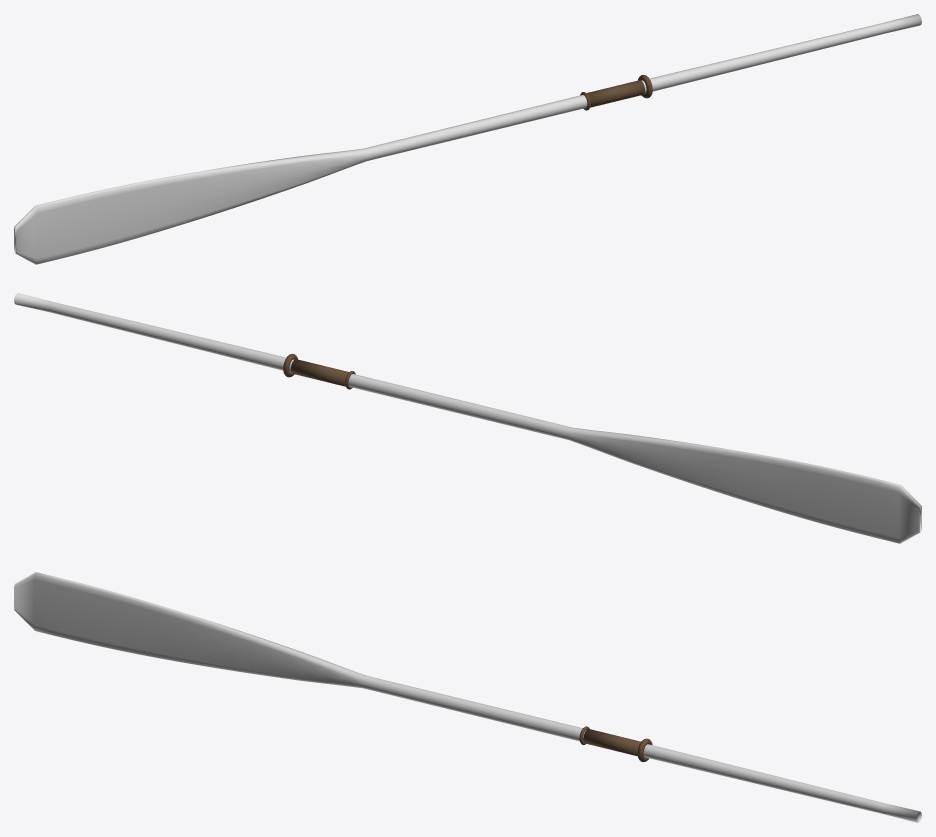
File: oar_p2.glb
3 views of the same model, one above another, from view 1: azimuth 30°, elevation 25°; view 2: azimuth 150°, elevation 25°; view 3: azimuth 330°, elevation 25° (orthographic).
Visible parts, largest first — view 1: Oar_P2; view 2: Oar_P2; view 3: Oar_P2.
Boxes of the visible parts, left/top/right/bottom form: Oar_P2: left=14, top=14, right=921, bottom=264; Oar_P2: left=14, top=293, right=921, bottom=543; Oar_P2: left=14, top=572, right=921, bottom=822.
Bounding box in the file's own units: 3.66 × 0.23 × 0.086.
